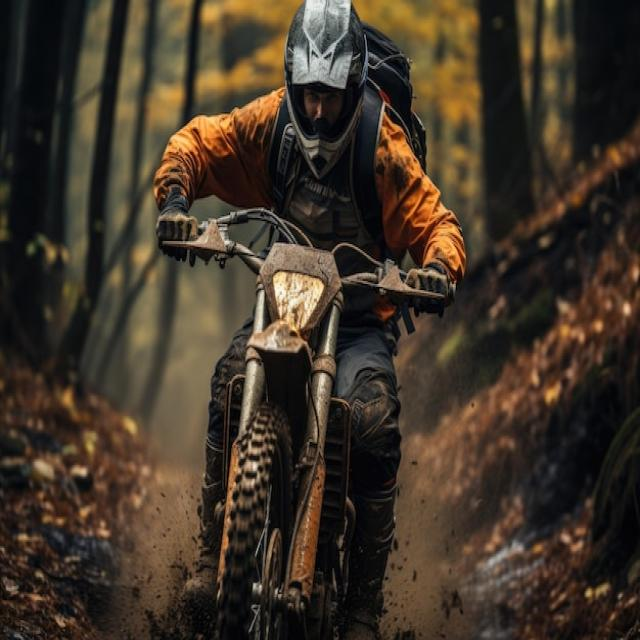Bike: (165, 219, 451, 640)
